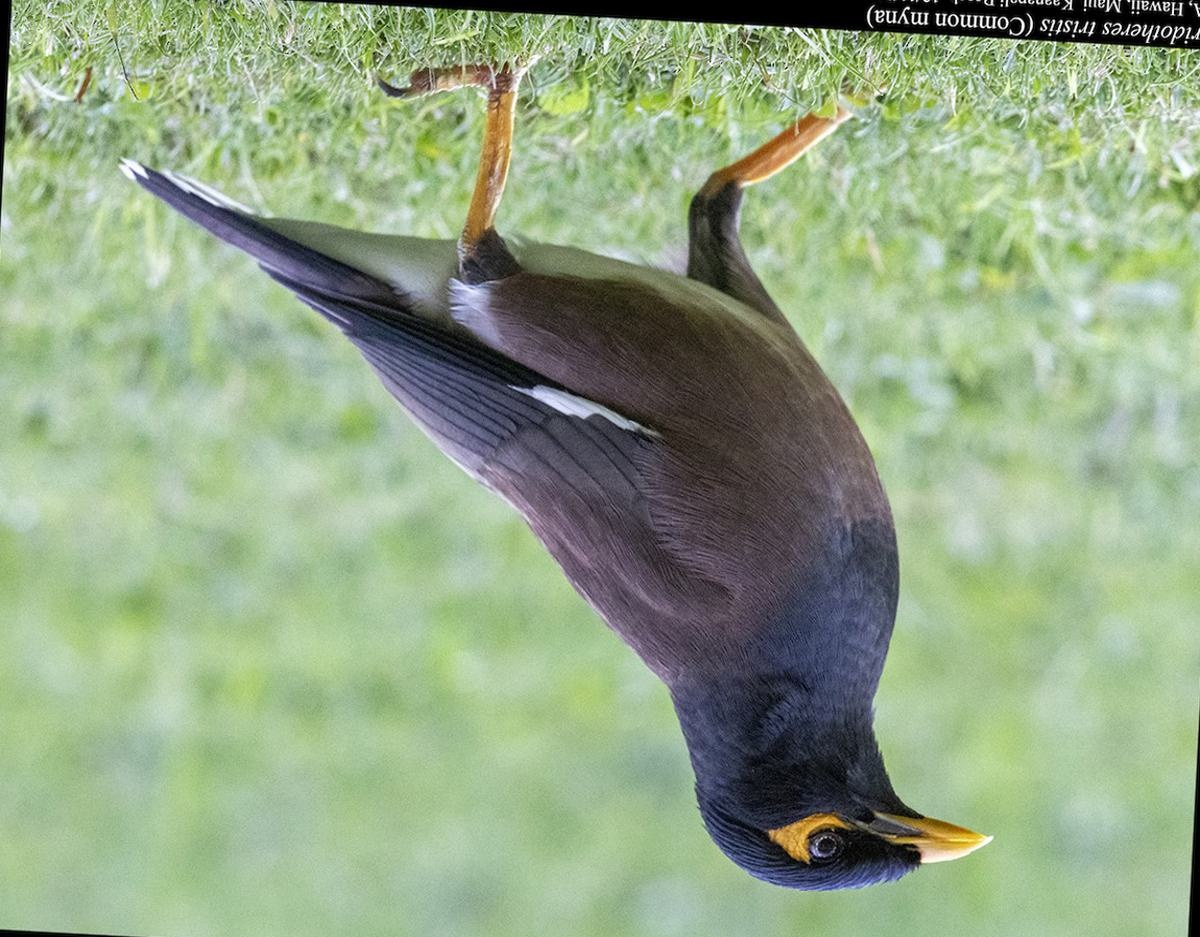myna: (271, 76, 1011, 904)
